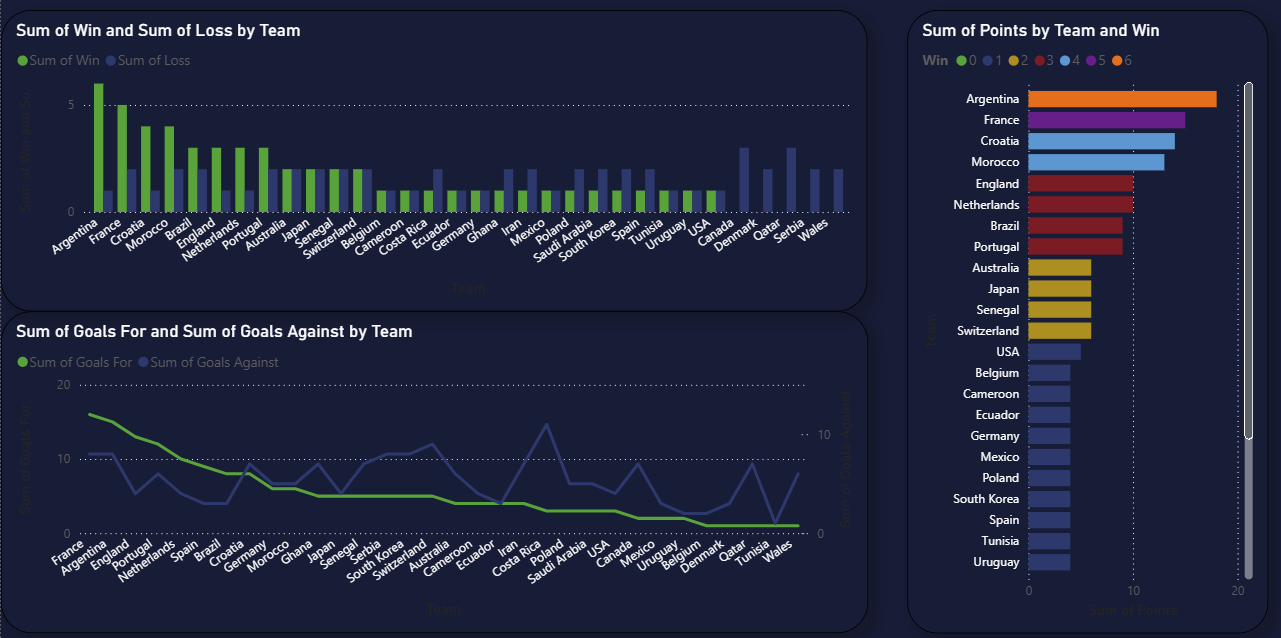

The page's visual inventory and layout, read from the dashboard file:
{"tool":"powerbi","page":{"name":"Page 1","canvas":[1280,720],"ordinal":0},"visuals":[{"type":"barChart","fields":{"Category":["FIFA - 2022 dataset.Team"],"Y":["Sum(FIFA - 2022 dataset.Points)"],"Series":["FIFA - 2022 dataset.Win"]},"box":[889.2,15.1,354,612],"z":0},{"type":"clusteredColumnChart","fields":{"Category":["FIFA - 2022 dataset.Team"],"Y":["Sum(FIFA - 2022 dataset.Win)","Sum(FIFA - 2022 dataset.Loss)"]},"box":[0,15.1,850.8,296.4],"z":1000},{"type":"lineChart","fields":{"Category":["FIFA - 2022 dataset.Team"],"Y":["Sum(FIFA - 2022 dataset.Goals For)"],"Y2":["Sum(FIFA - 2022 dataset.Goals Against)"]},"box":[0,311,851,316],"z":2000}]}

Visuals, with their boxes on the page's 1280x720 design canvas (x1, y1, x2, y2). These are canvas units, not pixel positions in the 1281x638 screenshot, which may show the page scaled, cropped or inside an application window:
barChart - FIFA - 2022 dataset.Team x Sum(FIFA - 2022 dataset.Points): <box>889,15,1243,627</box>
clusteredColumnChart - FIFA - 2022 dataset.Team x Sum(FIFA - 2022 dataset.Win): <box>0,15,851,312</box>
lineChart - FIFA - 2022 dataset.Team x Sum(FIFA - 2022 dataset.Goals For): <box>0,311,851,627</box>
